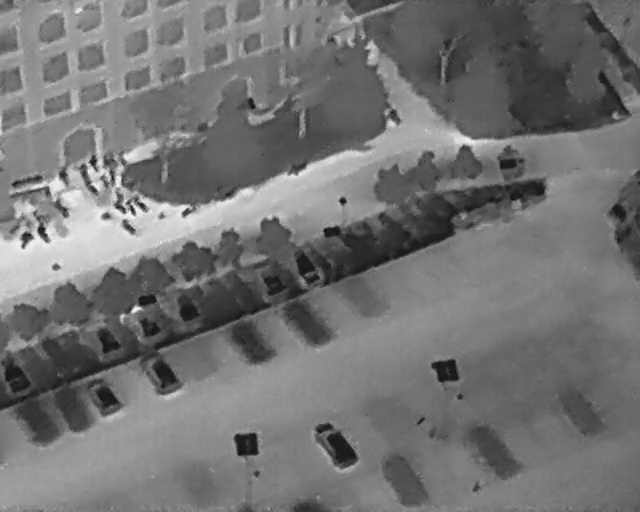Bicycle: (30, 219, 57, 249), (282, 158, 312, 182), (116, 213, 142, 240), (13, 227, 37, 254), (50, 194, 74, 221), (176, 200, 201, 222), (55, 164, 74, 191), (75, 161, 94, 188), (129, 194, 152, 216), (100, 151, 120, 174), (114, 148, 132, 172), (109, 198, 129, 217), (85, 152, 102, 174), (124, 200, 140, 218), (97, 172, 112, 189), (112, 187, 127, 204), (86, 182, 101, 197), (107, 169, 117, 185)
Car: (305, 411, 364, 478), (133, 343, 186, 402), (115, 296, 167, 352), (78, 368, 127, 422), (83, 313, 128, 363), (247, 254, 292, 303), (285, 241, 326, 291), (165, 283, 205, 329), (0, 354, 33, 395)
